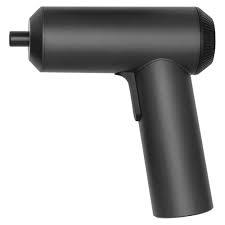screwdriver: (7, 4, 215, 217)
